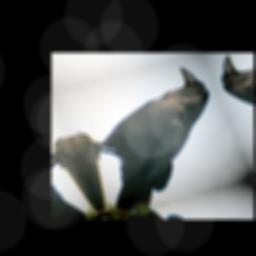Crow: (60, 61, 248, 218)
